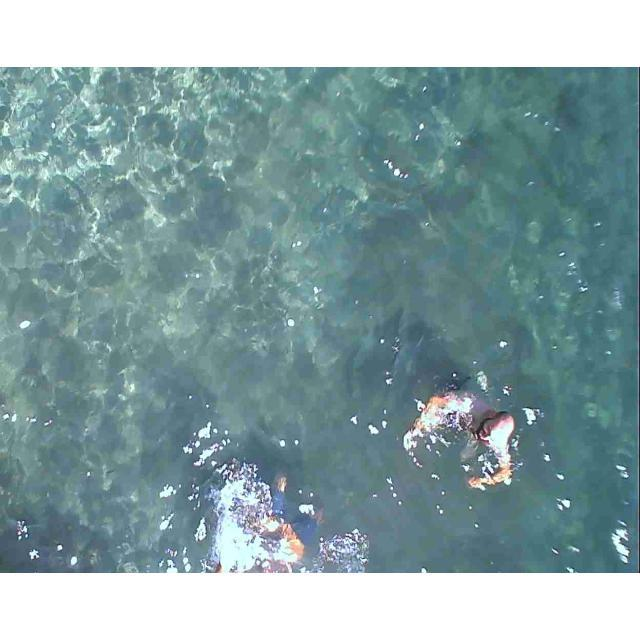human: (416, 387, 508, 500), (219, 475, 306, 566)
